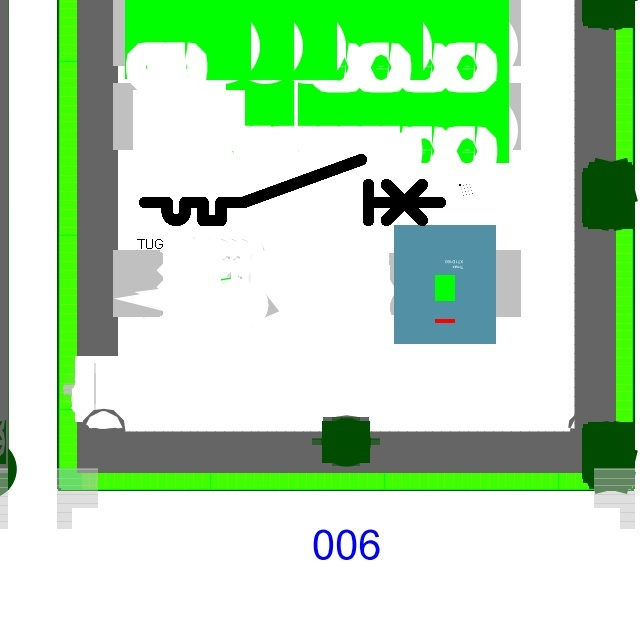interruptor_termomagnetico: (137, 152, 448, 228)
